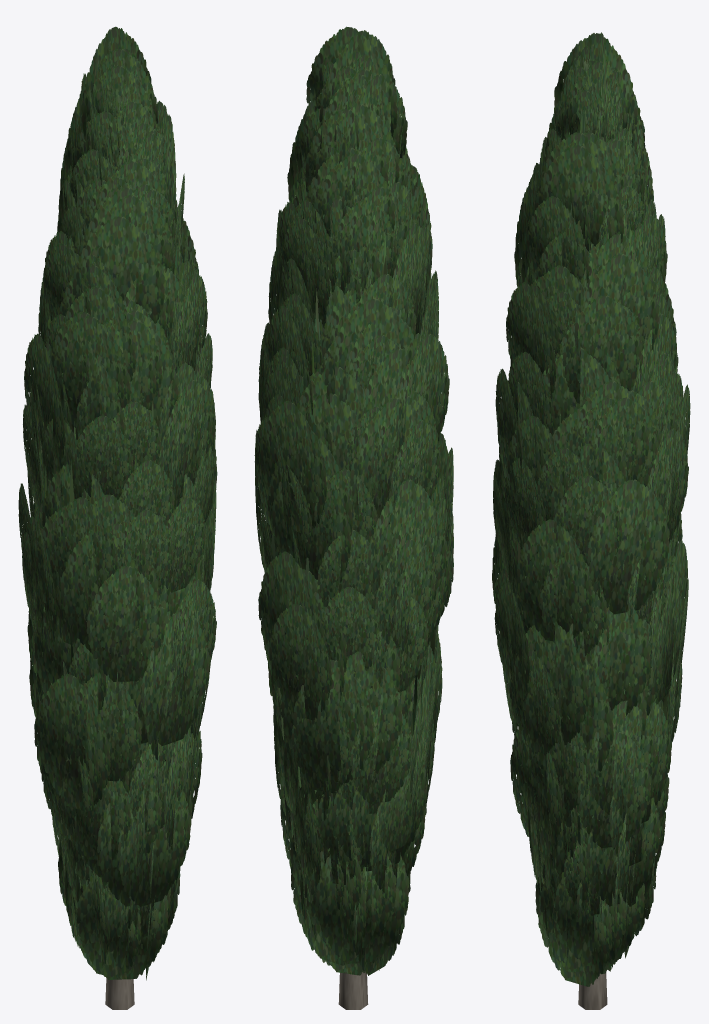
File: veg_med_cypress_a.fbx
3 renders of one model, left to right at view 1: azimuth 30°, elevation 25°; view 2: azimuth 150°, elevation 25°; view 3: azimuth 270°, elevation 25°, orthographic.
Parts seen in each view (by area): view 1: veg_med_cypress_a_LOD0; view 2: veg_med_cypress_a_LOD0; view 3: veg_med_cypress_a_LOD0.
Part boxes in pixels (x1,y1,x2,y2): veg_med_cypress_a_LOD0: (18,26,217,1009); veg_med_cypress_a_LOD0: (254,26,453,1009); veg_med_cypress_a_LOD0: (492,32,690,1009).
Size of what is drawn, in the model's own units: 2.93 by 14.71 by 2.85.
Materials: 2 (2 with a texture image).
